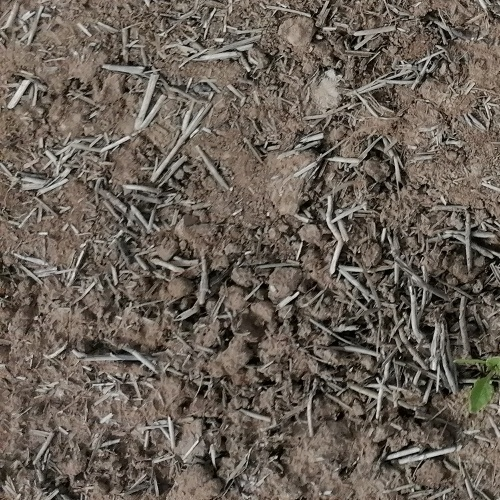beet: (468, 356, 500, 421)
